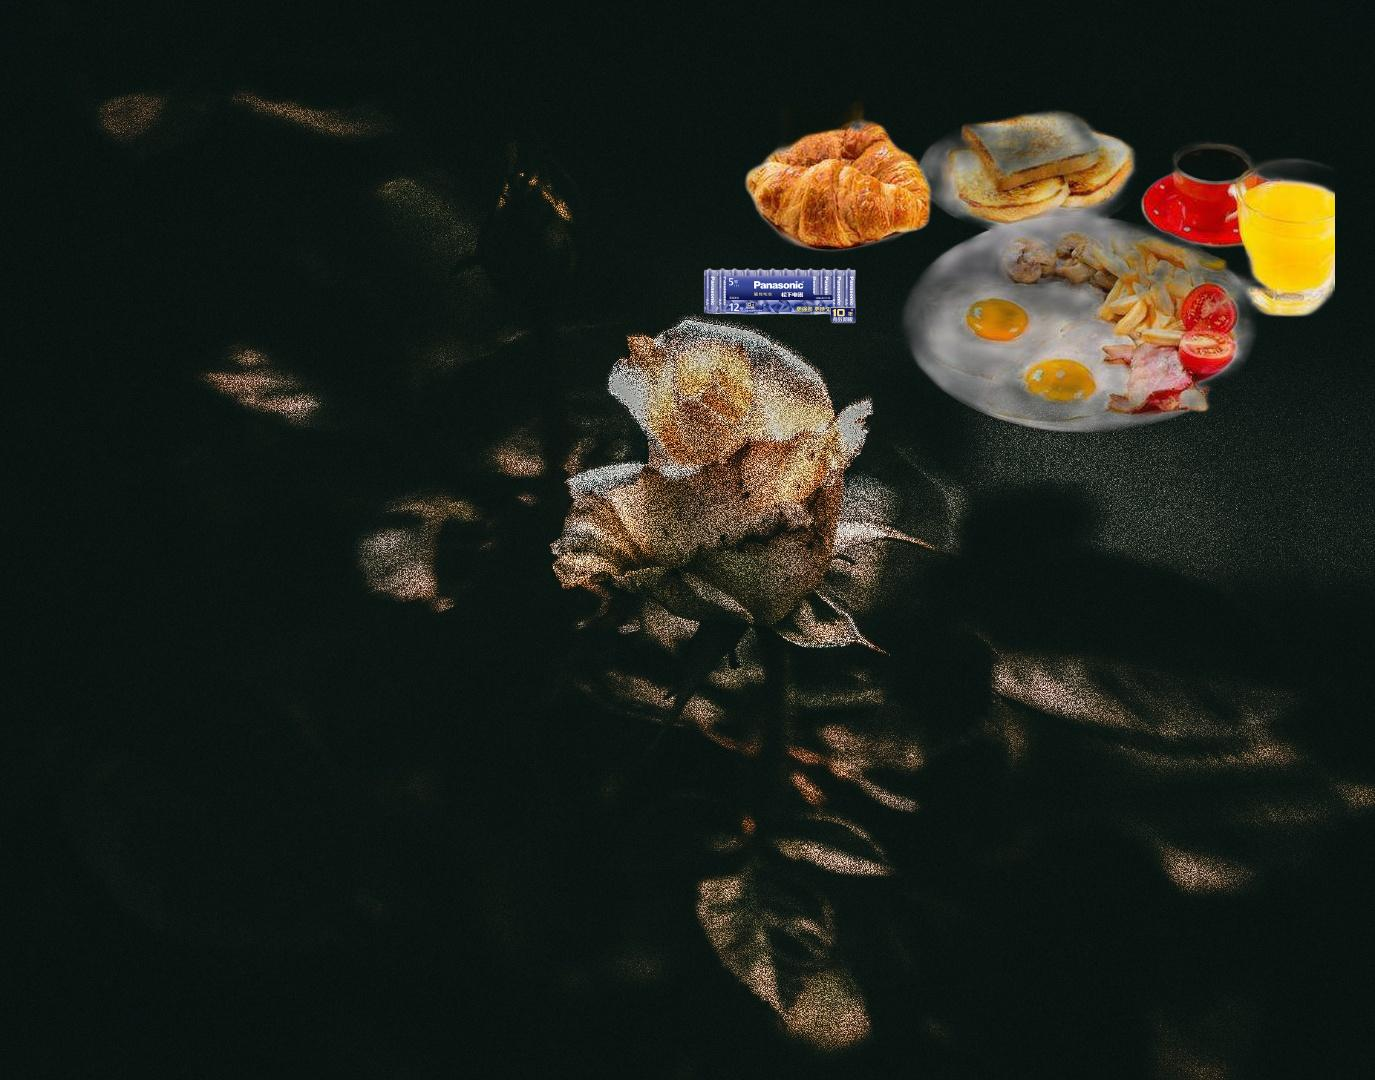battery: (701, 266, 859, 326)
biological: (735, 37, 1335, 437)
